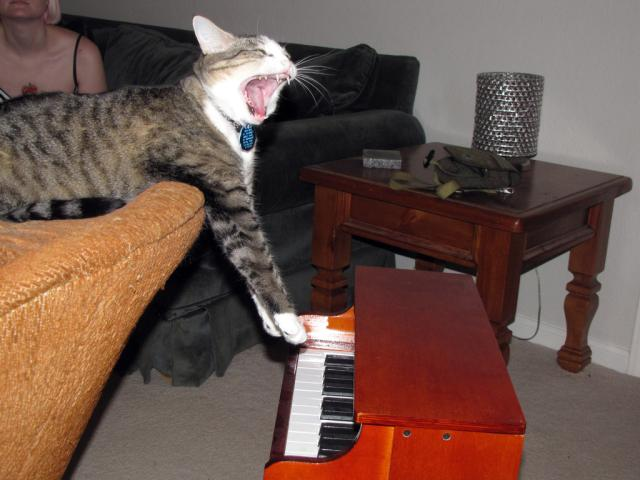Cat: (0, 15, 341, 346)
